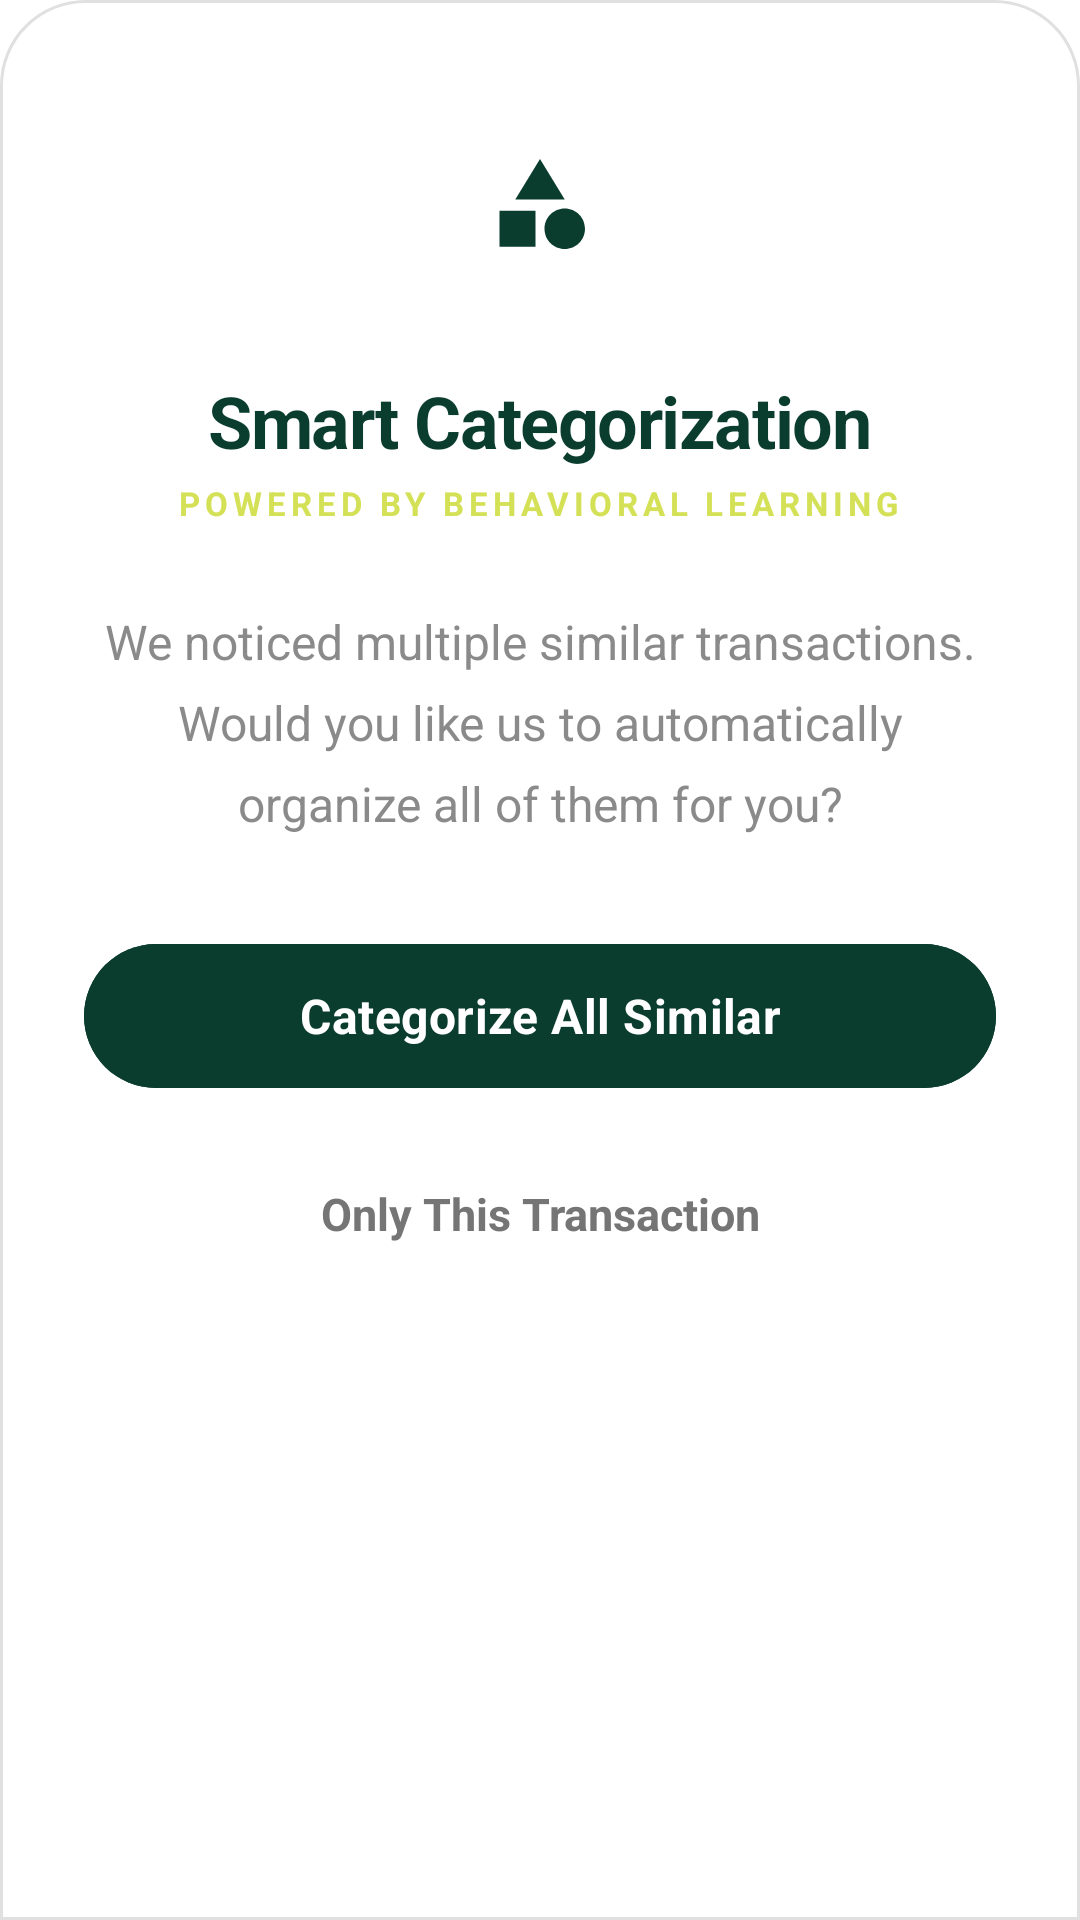

Icon click points for this 1080 × 1920 phone screenshot, format [x,y]:
category: [542,204]
